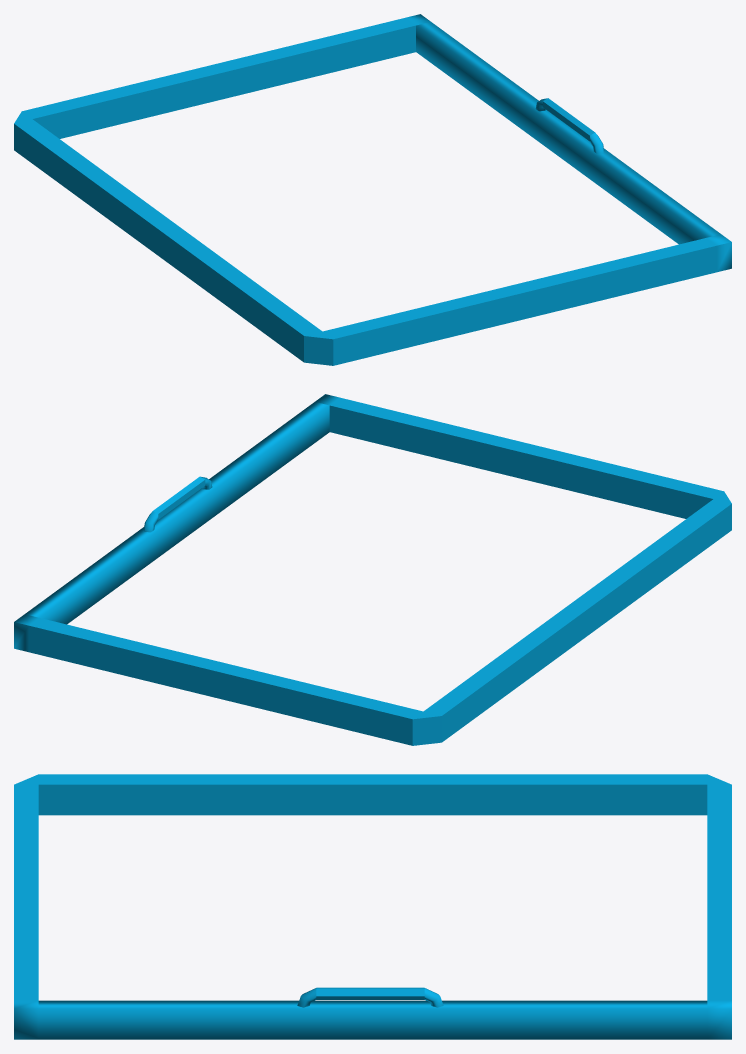
Rendered from Shop_Fridge_02_Door_R_Lod1.fbx.
3 views of the same model, one above another, from view 1: azimuth 30°, elevation 25°; view 2: azimuth 150°, elevation 25°; view 3: azimuth 270°, elevation 25° (orthographic). The views are drawn at different scales.
Visible parts, largest first — view 1: Shop_Fridge_02_Door_R_Lod1; view 2: Shop_Fridge_02_Door_R_Lod1; view 3: Shop_Fridge_02_Door_R_Lod1.
Boxes of the visible parts, x1,y1,x2,y2 form: Shop_Fridge_02_Door_R_Lod1: (14, 14, 731, 365); Shop_Fridge_02_Door_R_Lod1: (14, 394, 731, 745); Shop_Fridge_02_Door_R_Lod1: (14, 774, 731, 1039).
Bounding box in the file's own units: 68.84 × 6.55 × 89.
